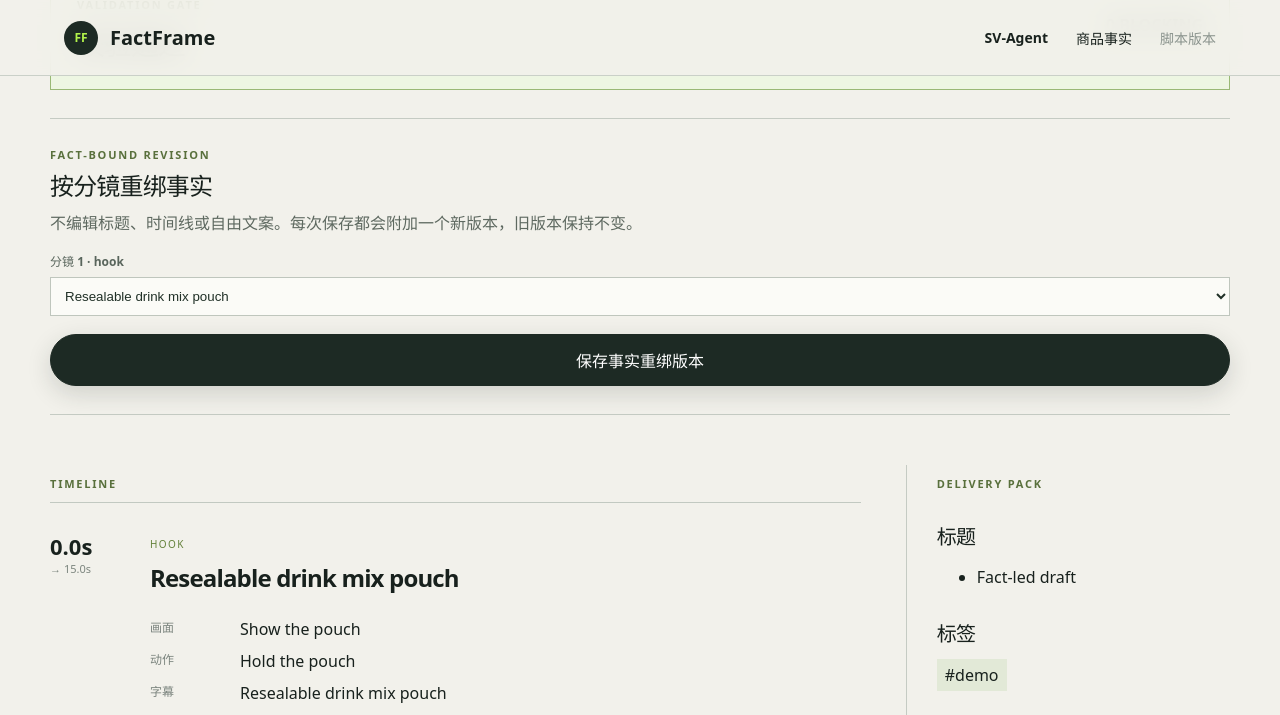
Test: script versions › shows a recoverable error when fact-bound version creation fails
(page scrolled)
Click the button "保存事实重绑版本" at (640, 360), box [50,334,1230,386]
(page scrolled)
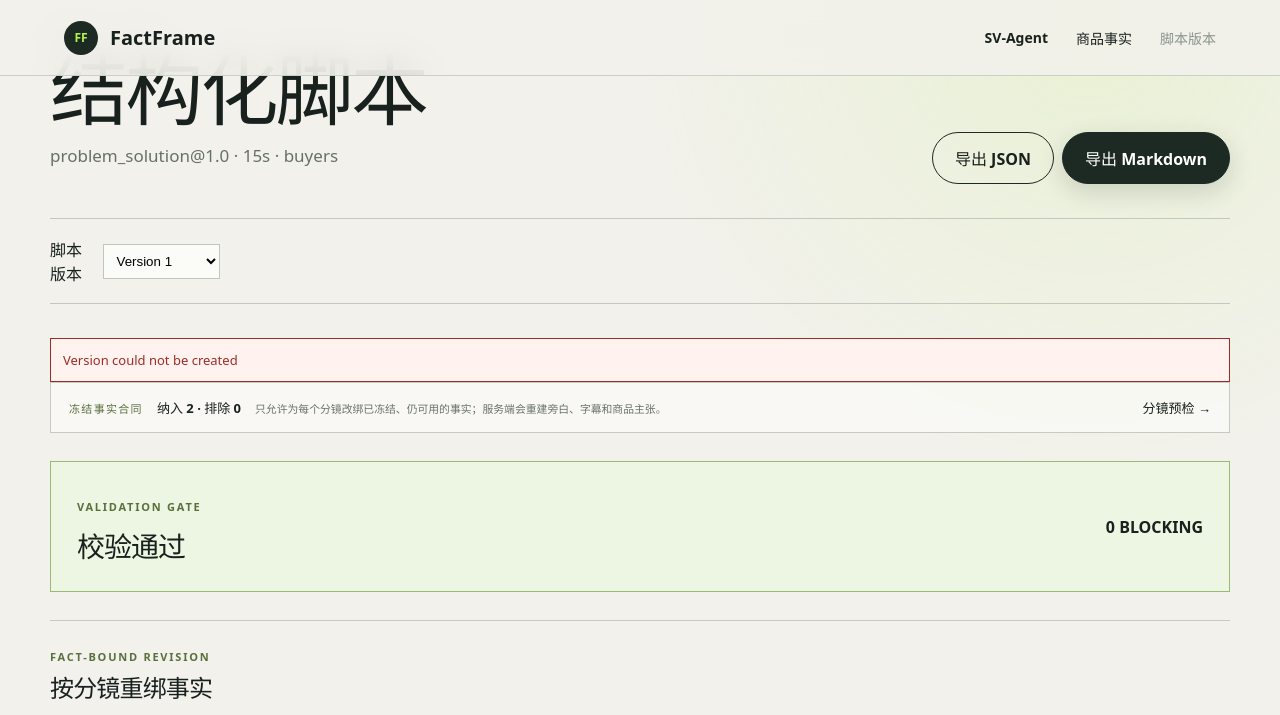
Check: the message reads "Version could not be created", box [63,351,238,369]
